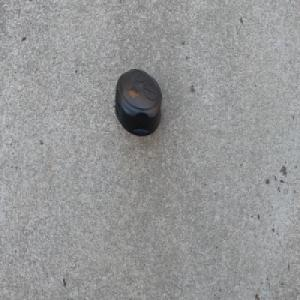FuelCap: (113, 67, 163, 140)
